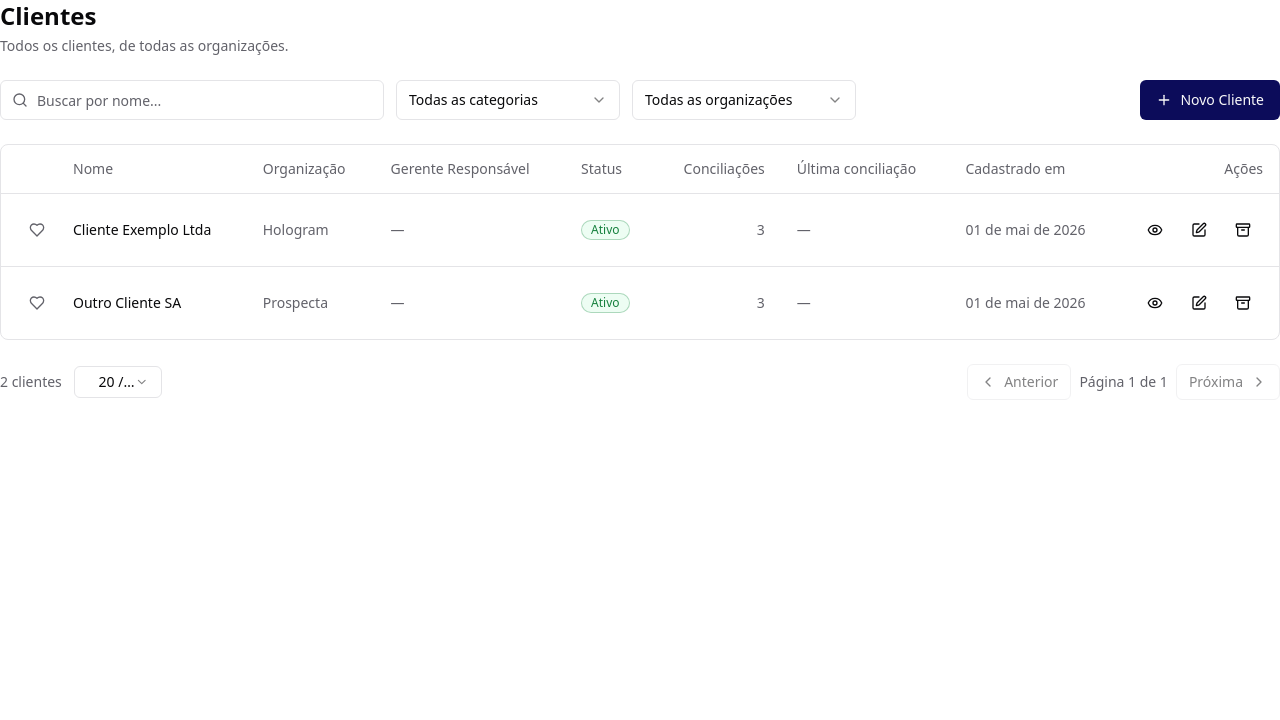
Test: Clientes — dimensão de organização (plataforma) › o formulário de criação pede a organização de destino
Click the button "Novo Cliente": (1210, 100) [1140,80,1279,120]
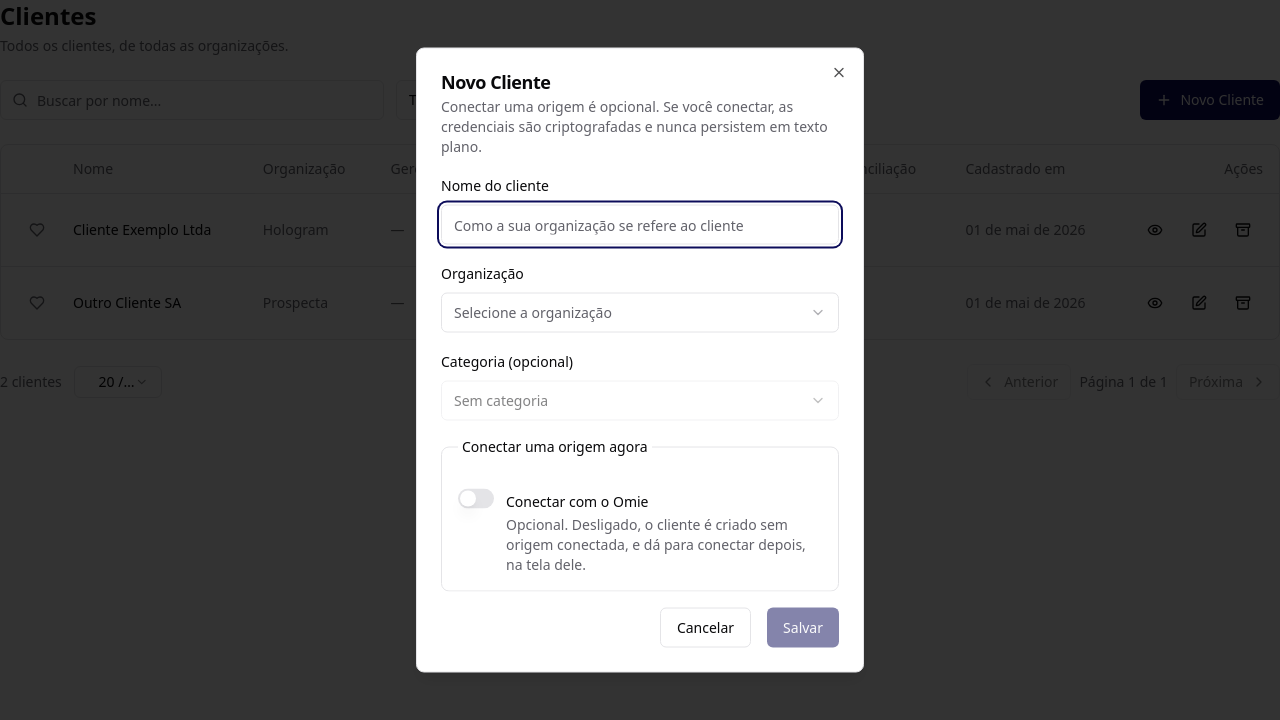
Expected: the dropdown named "Organização do cliente" is shown, [441,292,839,332]
